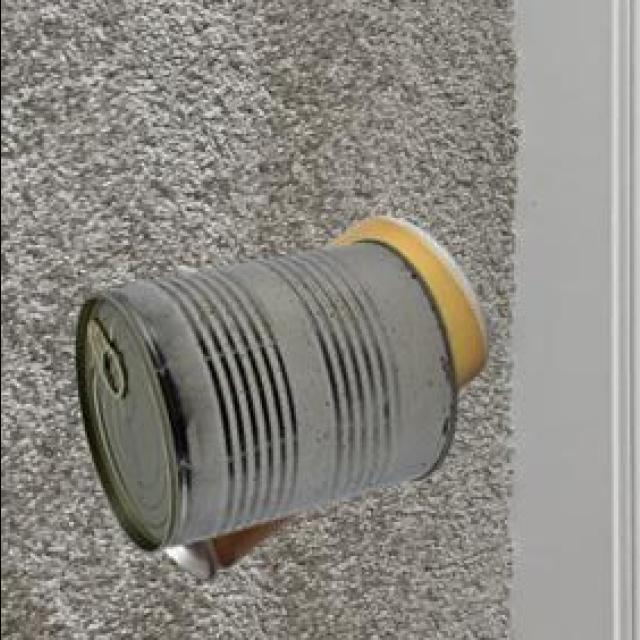logam: (78, 244, 460, 555), (167, 221, 491, 584)
